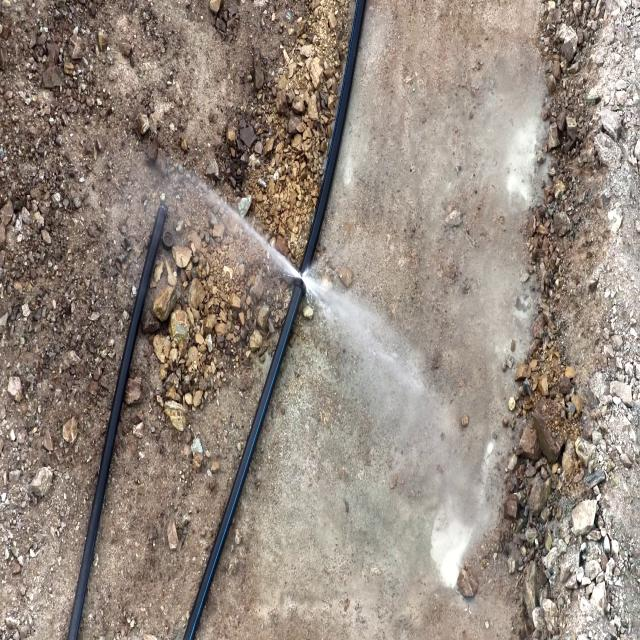leak: (186, 173, 350, 331)
